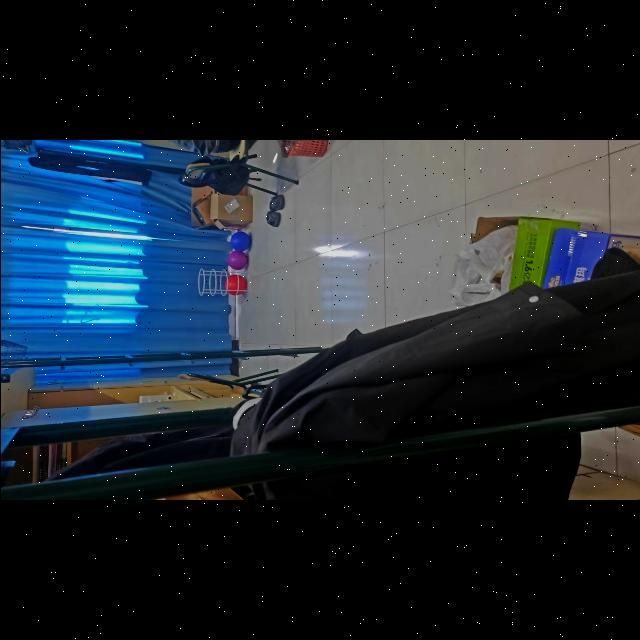B: (228, 230, 254, 252)
P: (224, 250, 250, 270)
R: (222, 273, 245, 295)
S: (196, 267, 240, 297)
